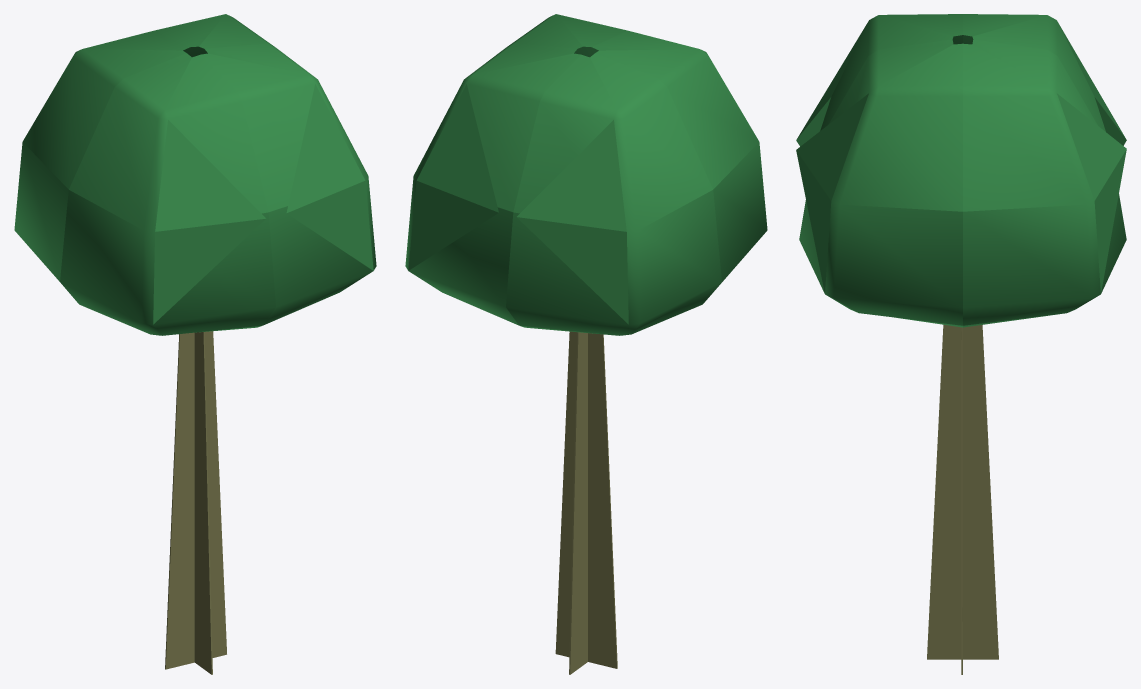
Rendered from TreeSquare_Big.fbx.
3 renders of one model, left to right at view 1: azimuth 30°, elevation 25°; view 2: azimuth 150°, elevation 25°; view 3: azimuth 270°, elevation 25°, orthographic.
Visible parts, largest first — view 1: TREE_BIG_SQUARE; view 2: TREE_BIG_SQUARE; view 3: TREE_BIG_SQUARE.
Boxes of the visible parts, x1,y1,x2,y2 form: TREE_BIG_SQUARE: [14, 14, 376, 674]; TREE_BIG_SQUARE: [405, 14, 767, 674]; TREE_BIG_SQUARE: [796, 14, 1126, 674].
Size of the model in its own units: 761 by 1638 by 792.
